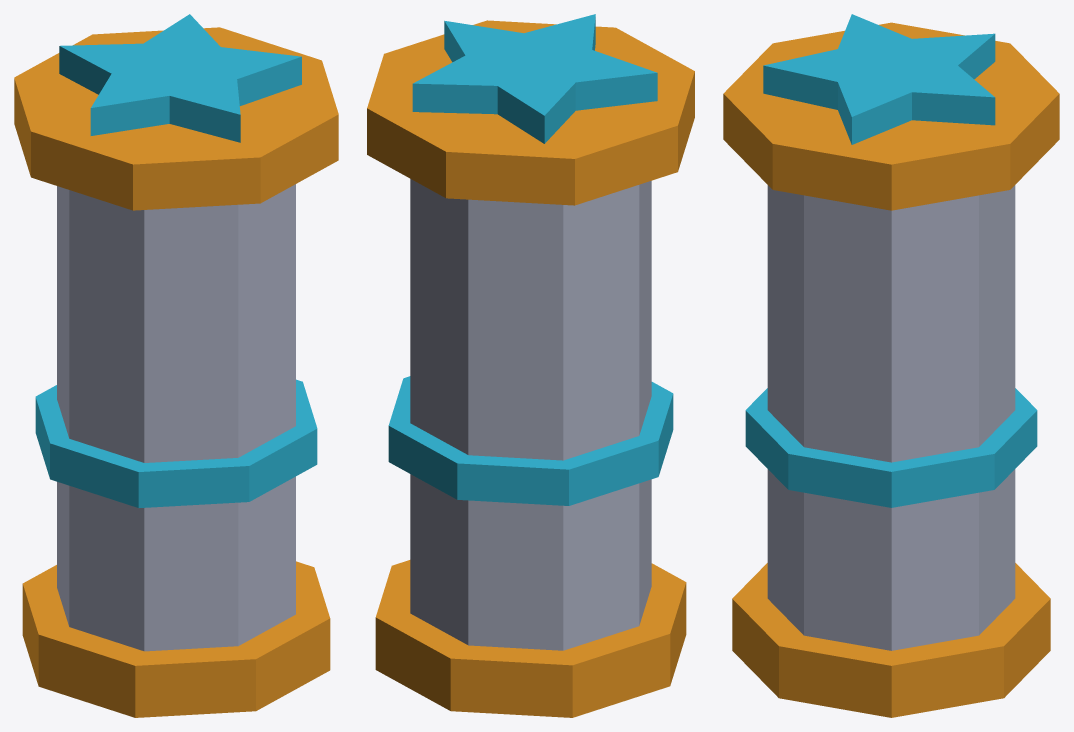
Rendered from star_ruin_pillar.obj.
The picture shows the model from 3 angles, left to right: view 1: azimuth 30°, elevation 25°; view 2: azimuth 150°, elevation 25°; view 3: azimuth 270°, elevation 25°; orthographic projection.
Parts seen in each view (by area): view 1: star_ruin_pillar; view 2: star_ruin_pillar; view 3: star_ruin_pillar.
Boxes of the visible parts, left/top/right/bottom form: star_ruin_pillar: left=14, top=14, right=338, bottom=717; star_ruin_pillar: left=367, top=14, right=694, bottom=717; star_ruin_pillar: left=723, top=14, right=1059, bottom=717.
Bounding box in the file's own units: 1.52 × 2.92 × 1.52.
